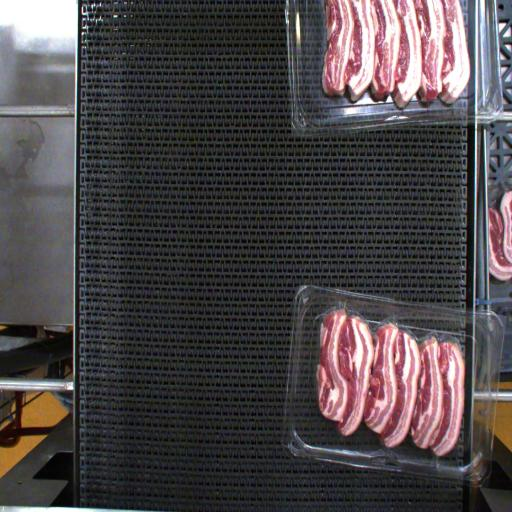packaging-error: (332, 296, 352, 310)
unsealed: (378, 314, 466, 358), (324, 302, 370, 328)
